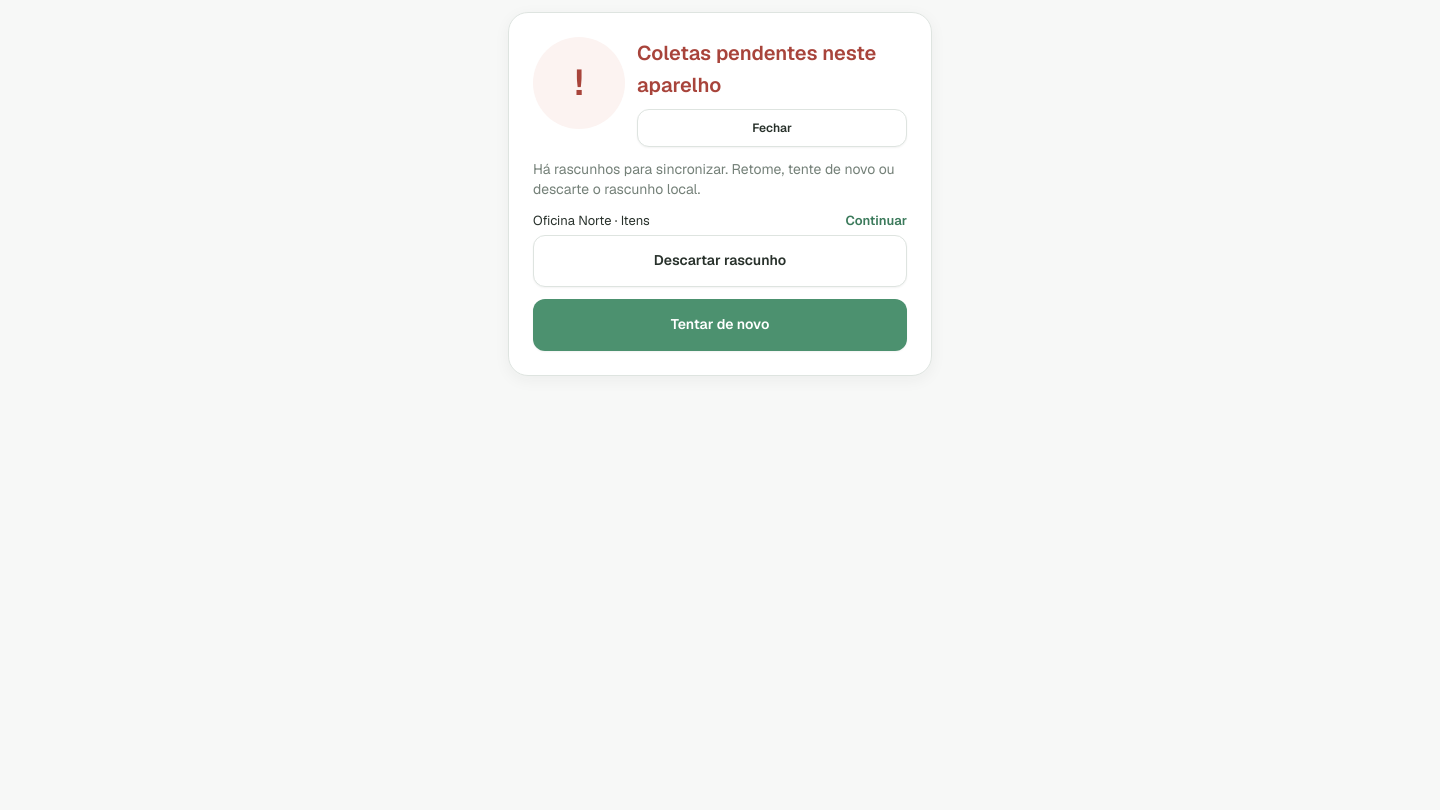
Scenario: OfflinePendingBanner online drain › does not discard when confirm is cancelled
Click the button "Descartar rascunho" at (720, 260), box [533,234,907,286]
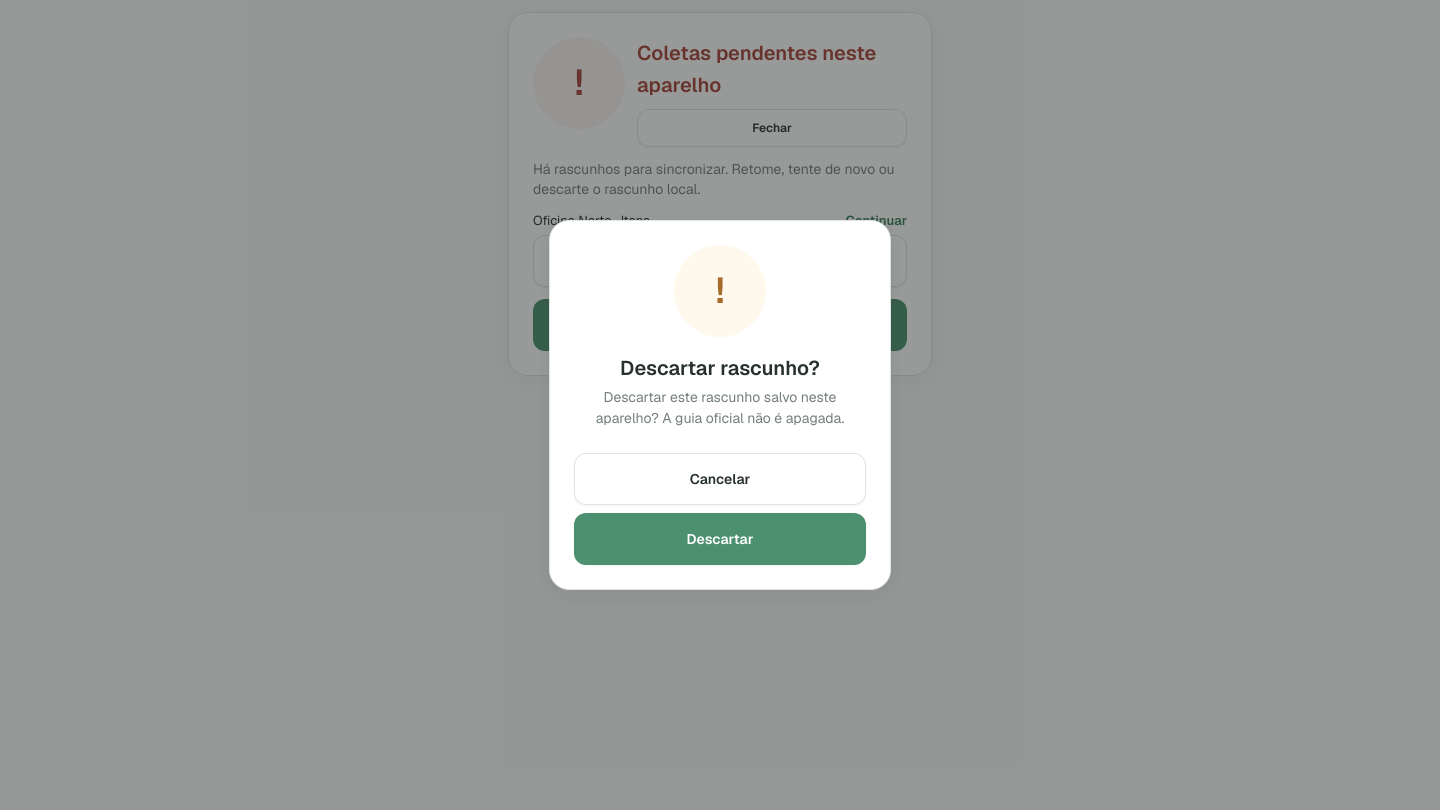
Expected: the dialog "Descartar rascunho?" is shown, [549,220,891,590]
Click the button "Cancelar" at (720, 479), box [574,453,866,505]
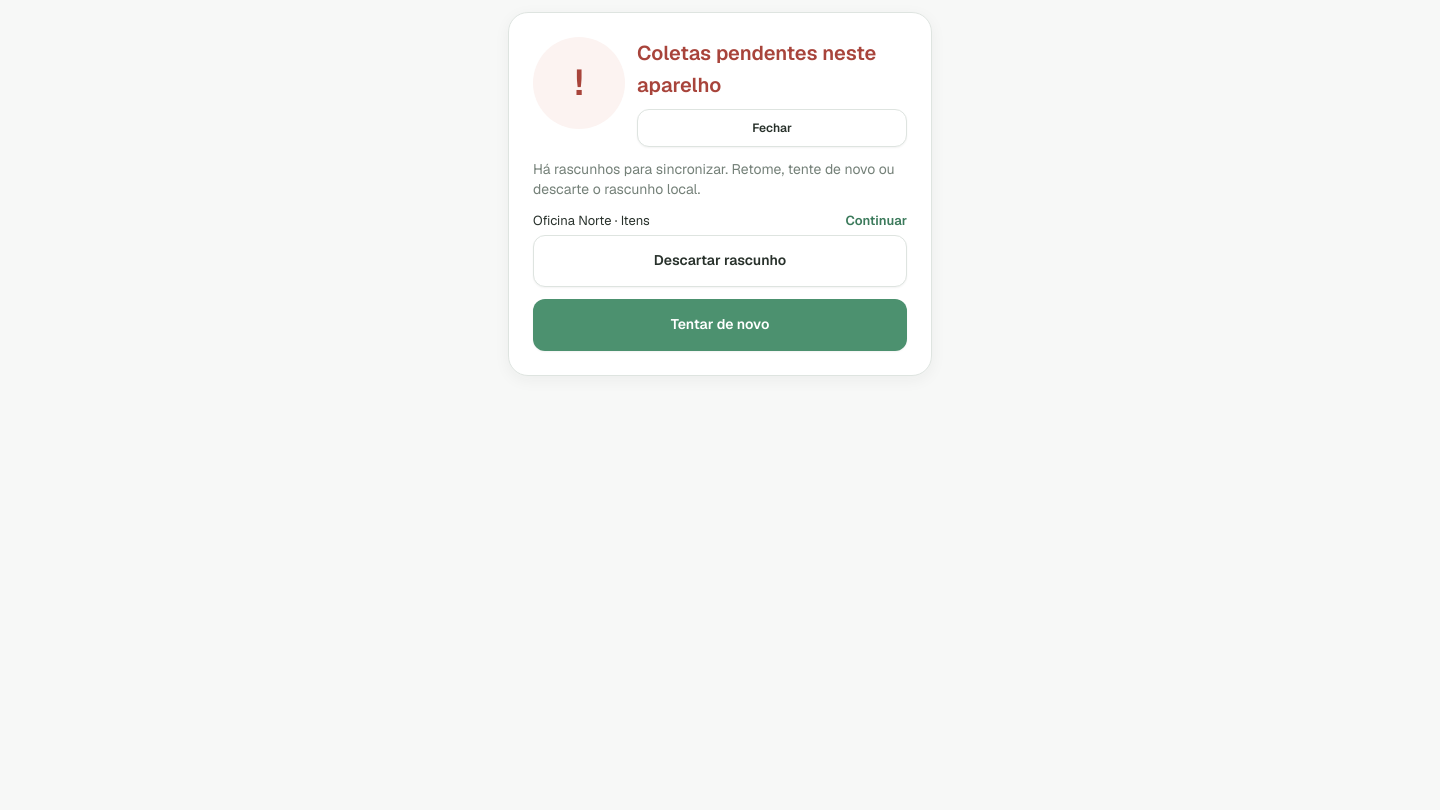
Expected: the text "Oficina Norte · Itens" is shown, [533,211,650,230]
Expected: the dialog is gone
